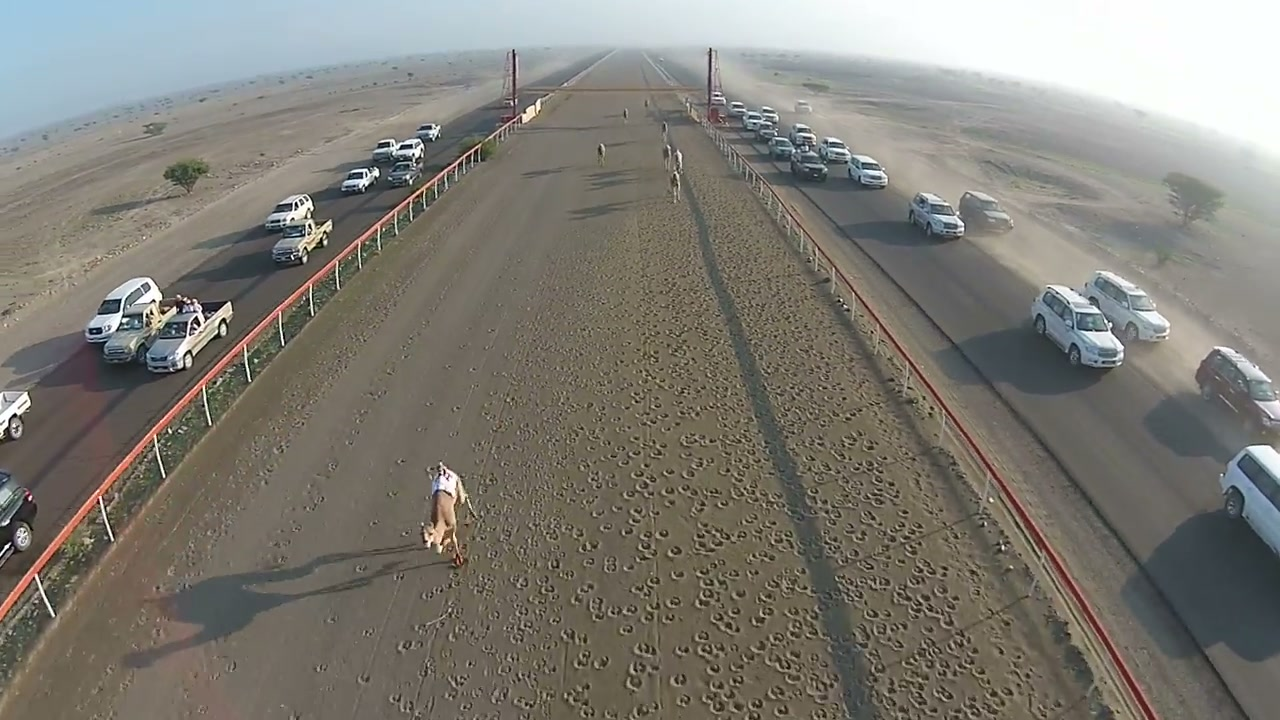animal_foot_print: (420, 200, 1088, 708)
